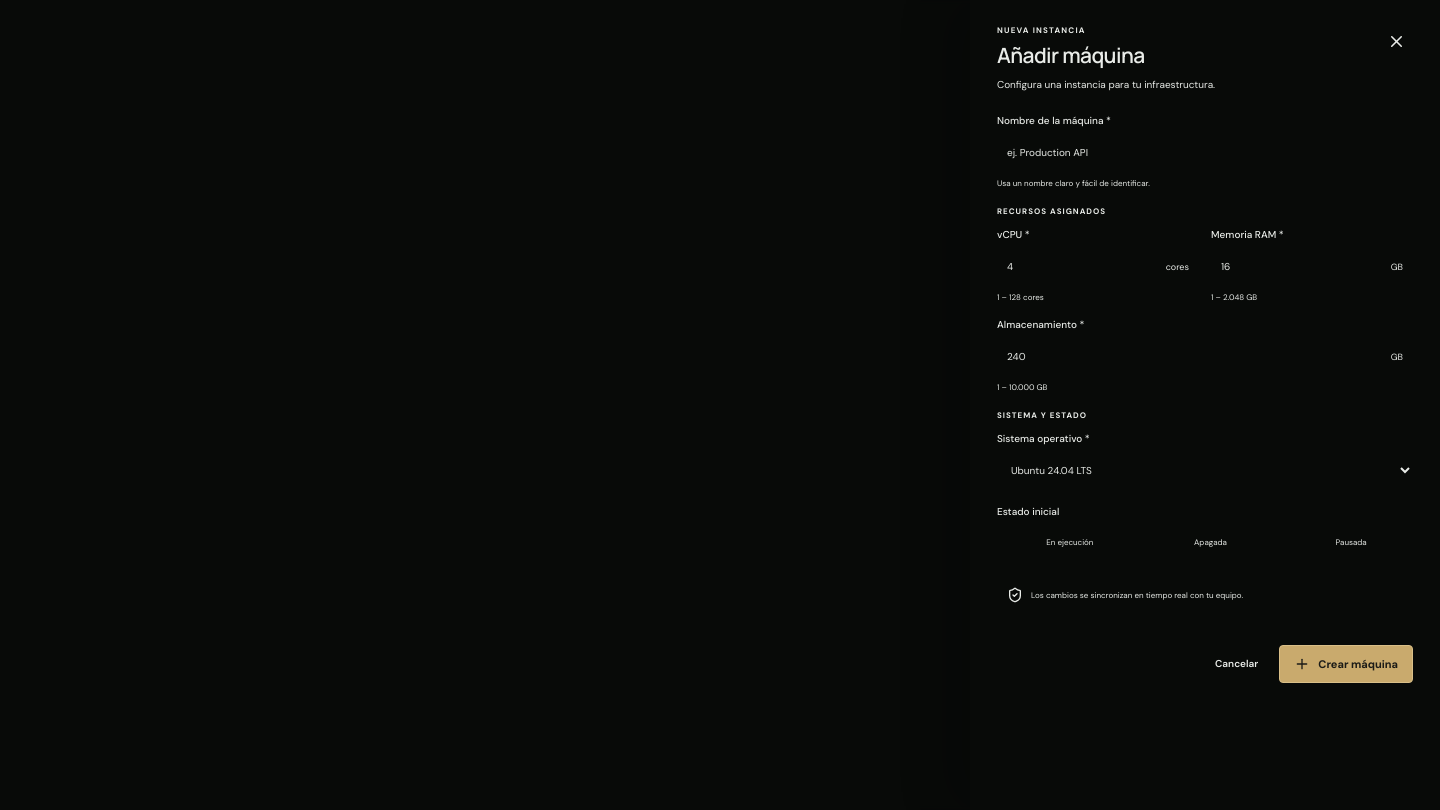
Scenario: VmDrawer › validates on blur and revalidates while the user corrects a touched field
The width and height of the screenshot is (1440, 810).
Type "A" into the field labelled "Nombre de la máquina" at point(1205, 152), box [997,134,1413,171]
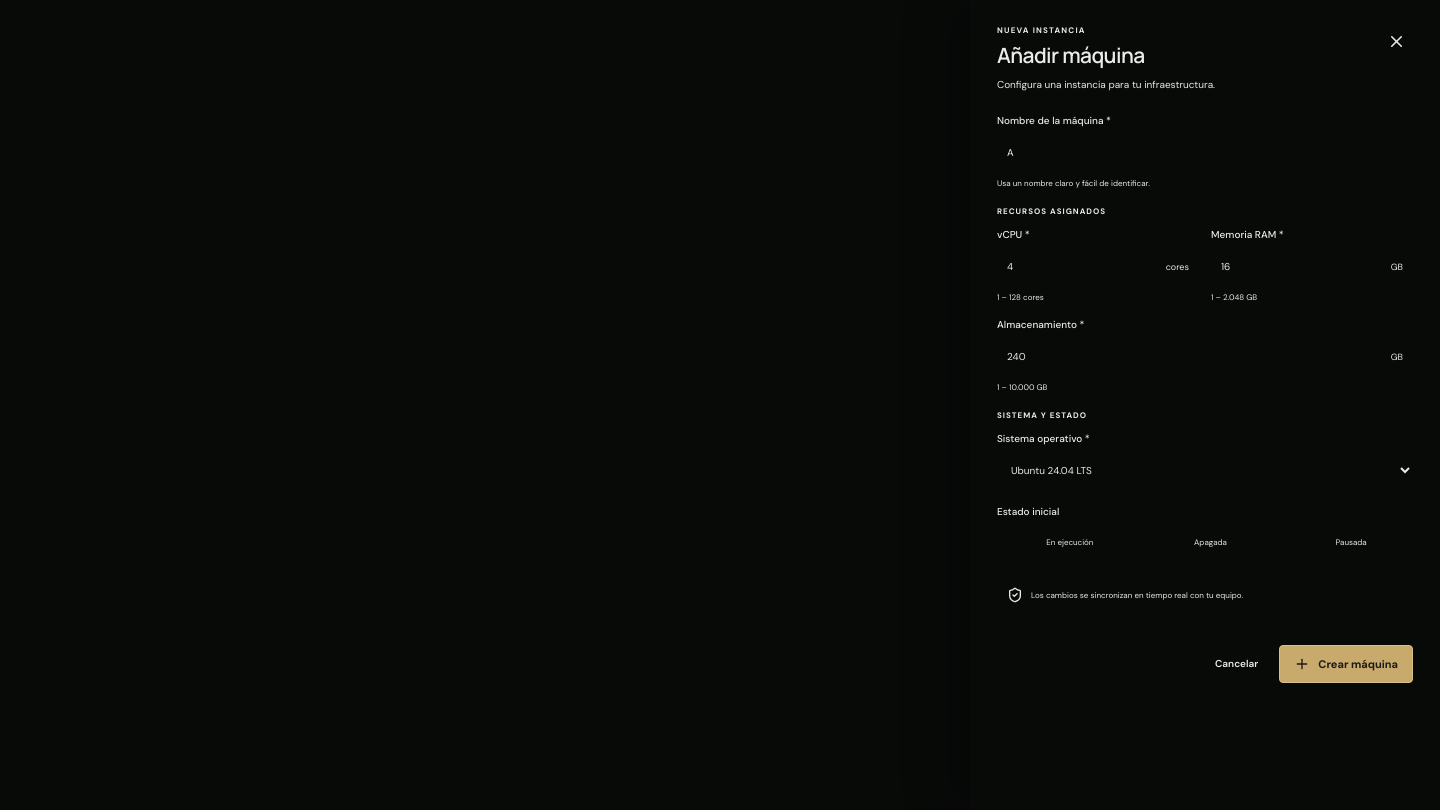
Press Tab
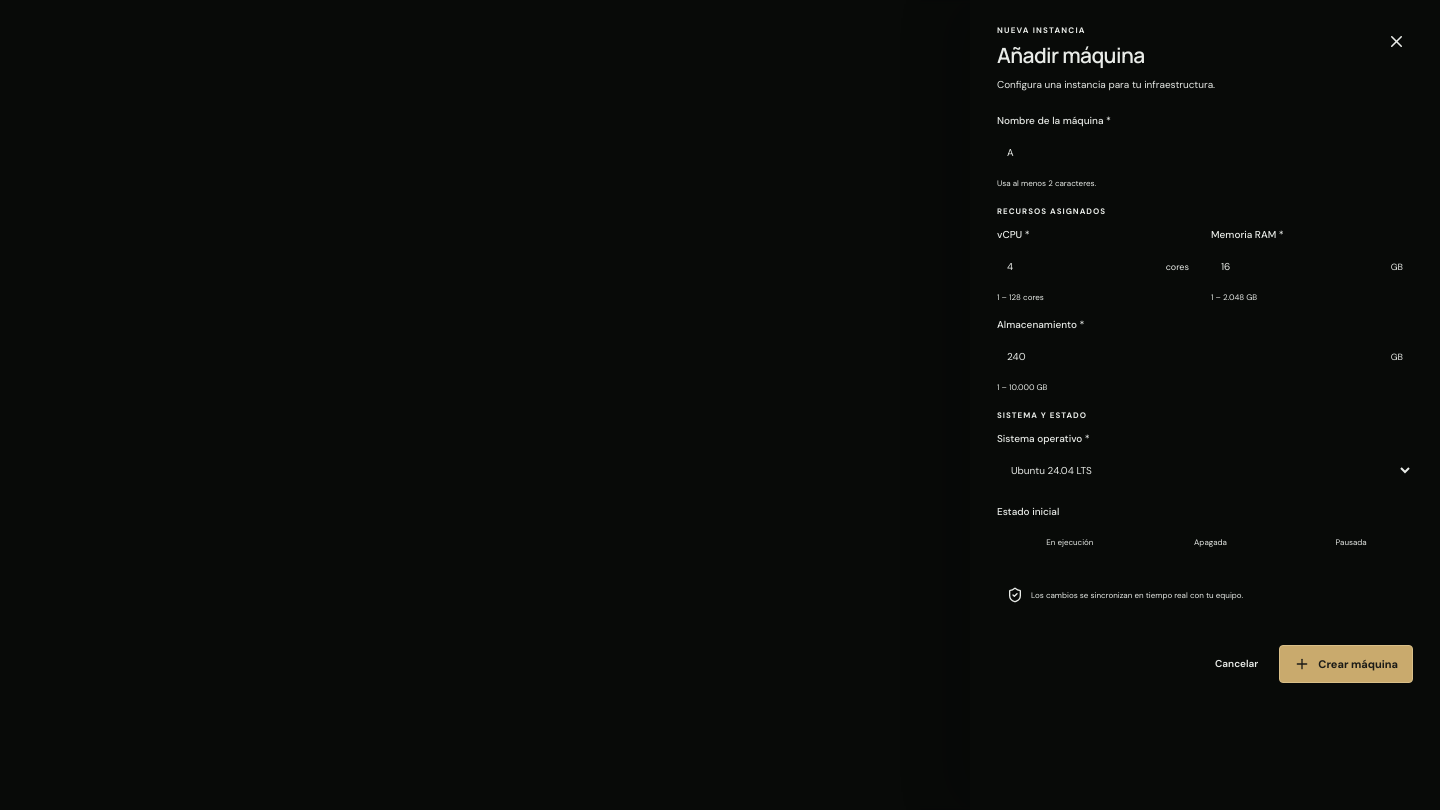
Check: the text "Usa al menos 2 caracteres." is shown, box [997,178,1096,188]
Replace the text in the field labelled "Nombre de la máquina * Usa al menos 2 caracteres." with "Production API" at point(1205, 152), box [997,134,1413,171]
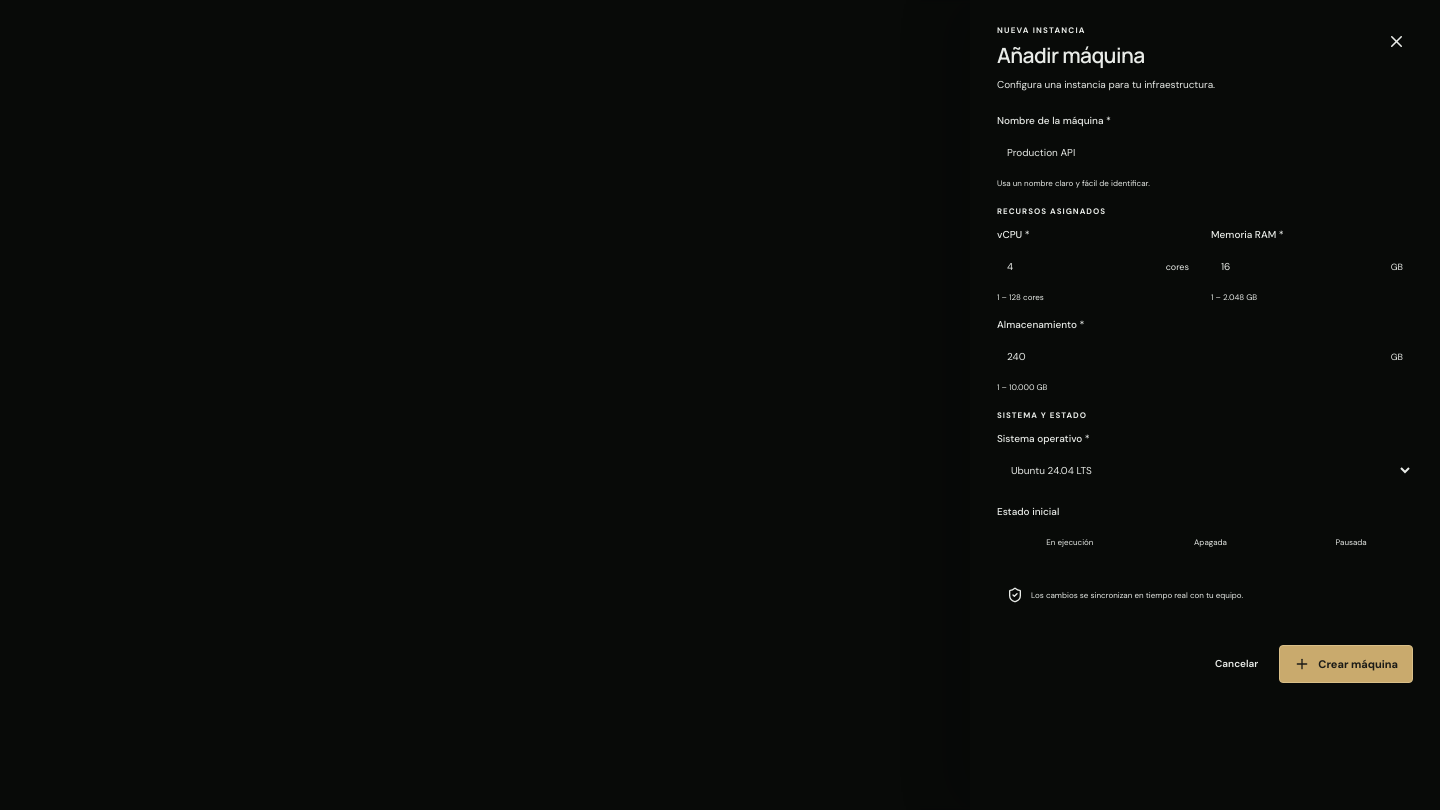
Check: the text "Usa al menos 2 caracteres." is gone
